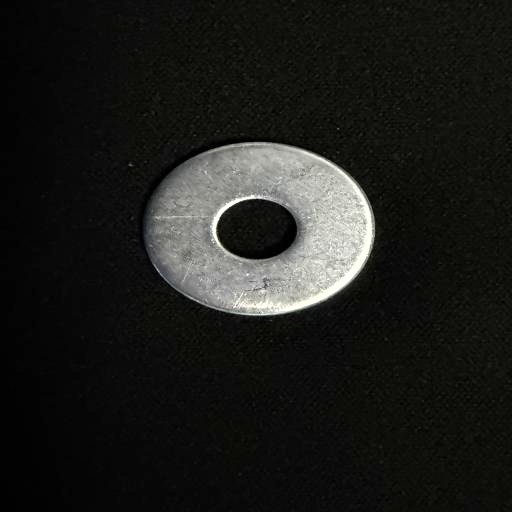Product: (143, 142, 375, 315)
Scratch: (148, 209, 216, 227)
surface damage: (242, 272, 289, 297)
